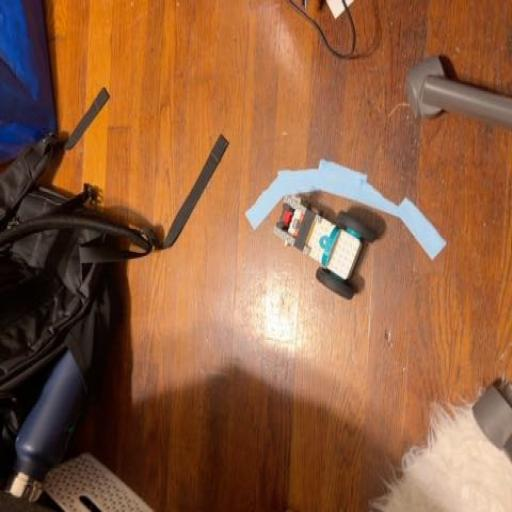Opponent: (269, 190, 376, 301)
